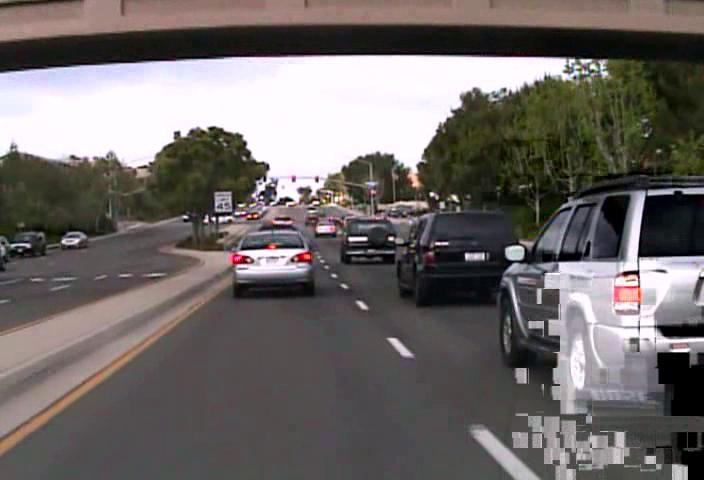speedLimit45: (213, 190, 232, 212)
